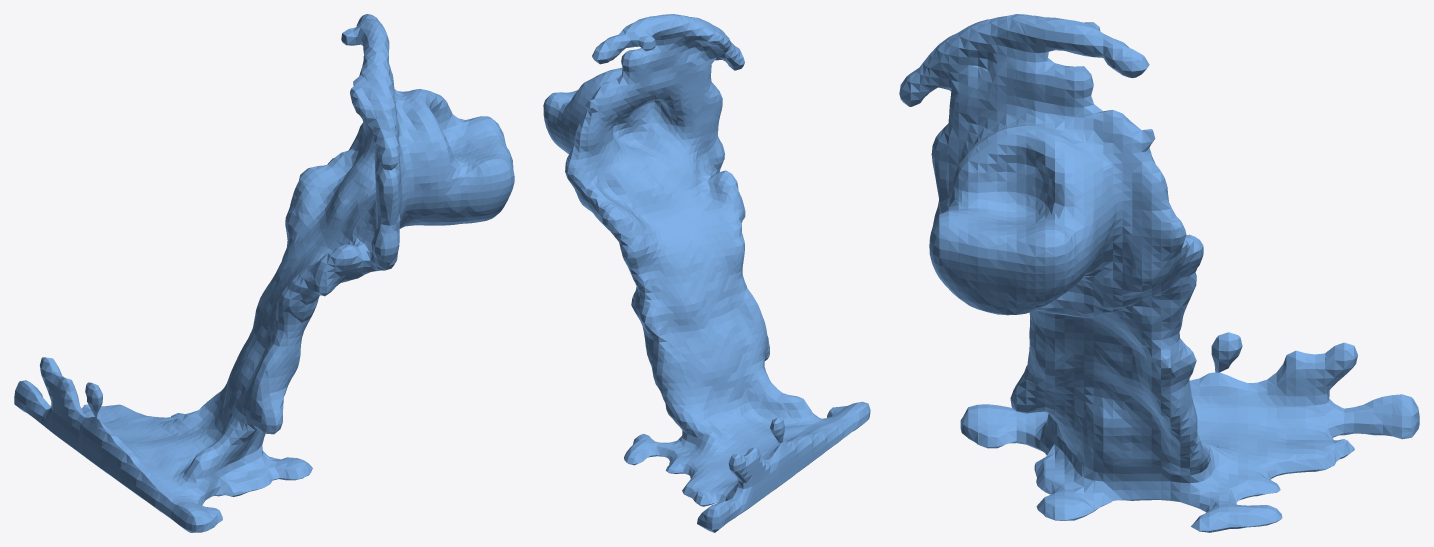
Rendered from water_0037.glb.
The picture shows the model from 3 angles, left to right: view 1: azimuth 30°, elevation 25°; view 2: azimuth 150°, elevation 25°; view 3: azimuth 270°, elevation 25°; orthographic projection. The views are drawn at different scales.
Visible parts, largest first — view 1: Water_0037; view 2: Water_0037; view 3: Water_0037.
Part boxes in pixels (x1,y1,x2,y2): Water_0037: (14, 14, 514, 532); Water_0037: (543, 14, 870, 532); Water_0037: (899, 14, 1419, 532).
Size of the model in its own units: 3.04 by 3.66 by 3.15.
